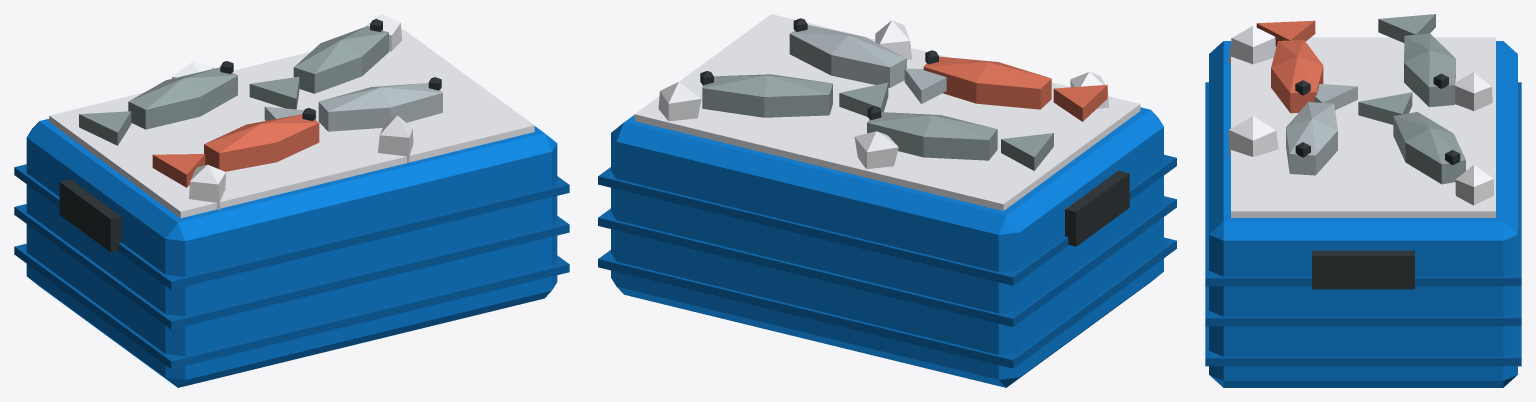
Rendered from fischkiste.glb.
3 renders of one model, left to right at view 1: azimuth 30°, elevation 25°; view 2: azimuth 150°, elevation 25°; view 3: azimuth 270°, elevation 25°, orthographic. The views are drawn at different scales.
Parts seen in each view (by area): view 1: fischkiste-m; view 2: fischkiste-m; view 3: fischkiste-m.
Boxes of the visible parts, <box> form: fischkiste-m: <box>14,14,569,387</box>; fischkiste-m: <box>598,14,1176,387</box>; fischkiste-m: <box>1205,14,1521,387</box>.
Size of the model in its own units: 0.654 by 0.317 by 0.43.
